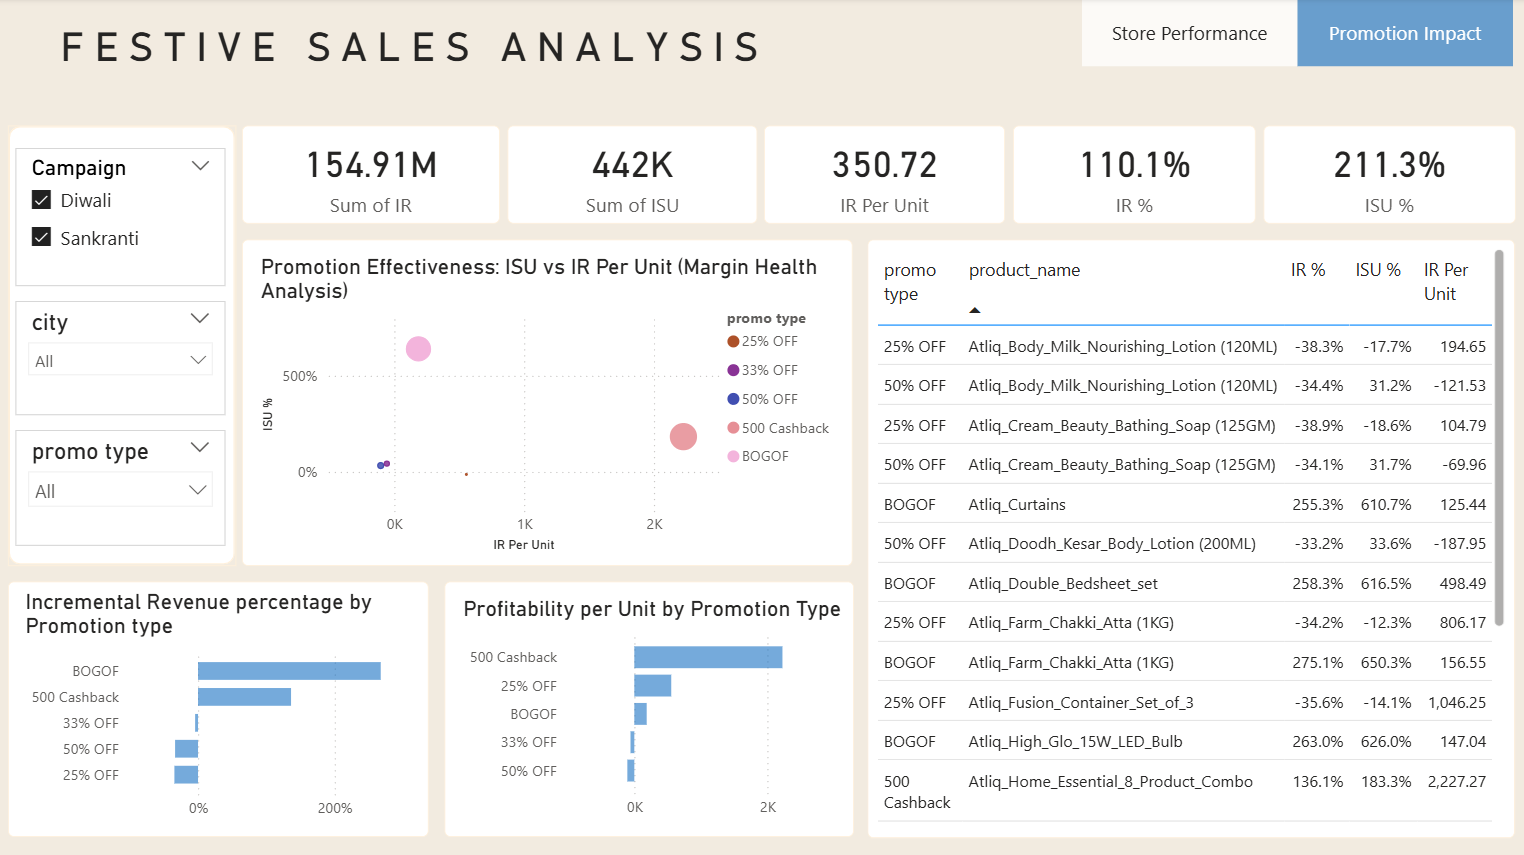

Layout of this report page (visuals, bound fields, positions):
{"tool":"powerbi","page":{"name":"Promotion Impact ","canvas":[1280,720],"ordinal":1},"visuals":[{"type":"scatterChart","title":"Promotion Effectiveness: ISU vs IR Per Unit (Margin Health Analysis)","fields":{"X":["fact_events.IR Per Unit"],"Y":["fact_events.ISU %"],"Category":["fact_events.promo_type"],"Size":["Sum(fact_events.IR)"],"Series":["fact_events.promo_type"]},"box":[205.9,201.4,510.3,272.6],"z":0},{"type":"clusteredBarChart","title":"Profitability per Unit by Promotion Type","fields":{"Y":["fact_events.IR Per Unit"],"Category":["fact_events.promo_type"]},"box":[374,487.6,342.2,213.5],"z":1000},{"type":"tableEx","fields":{"Values":["fact_events.promo_type","dim_products.product_name","fact_events.IR %","fact_events.ISU %","fact_events.IR Per Unit"]},"box":[728.3,201.4,540.6,499.7],"z":2000},{"type":"card","fields":{"Values":["Sum(fact_events.IR)"]},"box":[205.9,106,215,81.8],"z":3000},{"type":"card","fields":{"Values":["fact_events.IR %"]},"box":[849.5,106,202.9,81.8],"z":4000},{"type":"card","fields":{"Values":["fact_events.IR Per Unit"]},"box":[642,106,201.4,81.8],"z":5000},{"type":"card","fields":{"Values":["Sum(fact_events.ISU)"]},"box":[427,106,209,81.8],"z":6000},{"type":"shape","box":[10.6,106,190.8,368],"z":7000},{"type":"card","fields":{"Values":["fact_events.ISU %"]},"box":[1058.4,106,210.5,81.8],"z":8000},{"type":"slicer","fields":{"Values":["fact_events.promo_type"]},"box":[16.7,360.4,175.6,96.9],"z":9000},{"type":"slicer","fields":{"Values":["dim_stores.city"]},"box":[16.7,252.9,175.6,95.4],"z":10000},{"type":"slicer","fields":{"Values":["dim_campaigns.campaign_name"]},"box":[16.7,125.7,175.6,115.1],"z":11000},{"type":"textbox","box":[48.5,16.7,598.1,89.3],"z":12000},{"type":"pageNavigator","box":[907,0,361.9,57.5],"z":13000},{"type":"clusteredBarChart","title":"Incremental Revenue percentage by Promotion type","fields":{"Category":["fact_events.promo_type"],"Y":["fact_events.IR %"]},"box":[10.6,487.6,351.3,213.5],"z":14000}]}

Visuals, with their boxes in screenshot pixels (x1, y1, x2, y2), scaled from the page's 1280x720 canvas onto the 1524x855 screenshot:
"Promotion Effectiveness: ISU vs IR Per Unit (Margin Health Analysis)" scatterChart: x1=245, y1=239, x2=853, y2=563
"Profitability per Unit by Promotion Type" clusteredBarChart: x1=445, y1=579, x2=853, y2=833
tableEx - fact_events.promo_type x dim_products.product_name: x1=867, y1=239, x2=1511, y2=833
card - Sum(fact_events.IR): x1=245, y1=126, x2=501, y2=223
card - fact_events.IR %: x1=1011, y1=126, x2=1253, y2=223
card - fact_events.IR Per Unit: x1=764, y1=126, x2=1004, y2=223
card - Sum(fact_events.ISU): x1=508, y1=126, x2=757, y2=223
shape: x1=13, y1=126, x2=240, y2=563
card - fact_events.ISU %: x1=1260, y1=126, x2=1511, y2=223
slicer - fact_events.promo_type: x1=20, y1=428, x2=229, y2=543
slicer - dim_stores.city: x1=20, y1=300, x2=229, y2=414
slicer - dim_campaigns.campaign_name: x1=20, y1=149, x2=229, y2=286
textbox: x1=58, y1=20, x2=770, y2=126
pageNavigator: x1=1080, y1=0, x2=1511, y2=68
"Incremental Revenue percentage by Promotion type" clusteredBarChart: x1=13, y1=579, x2=431, y2=833
